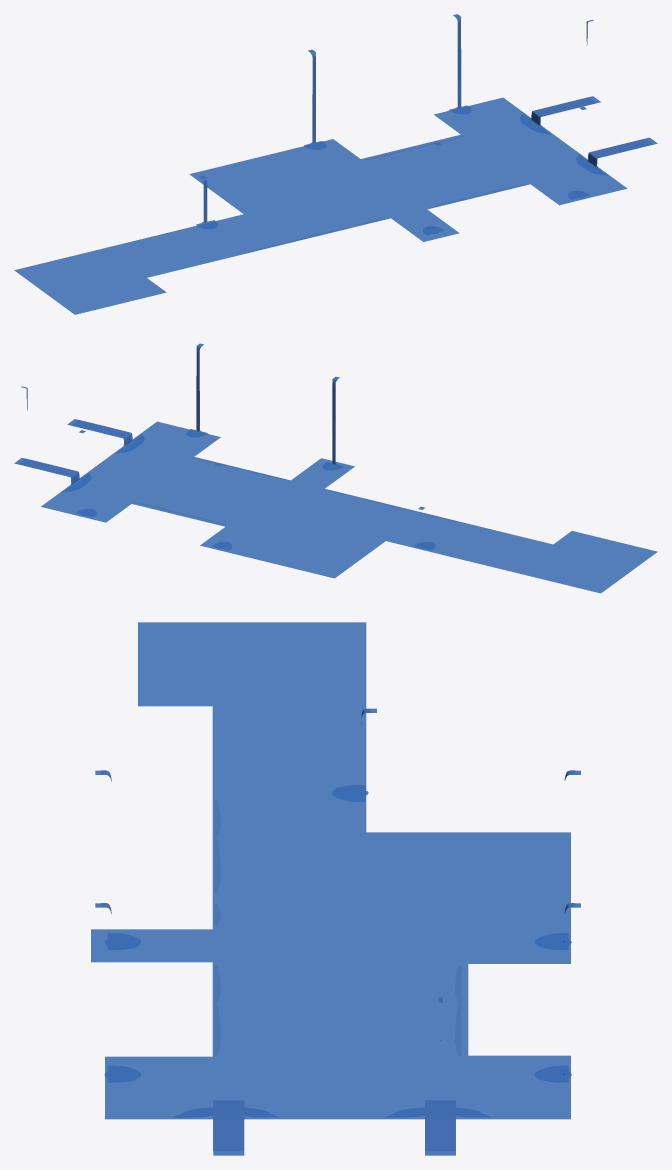
File: t3_road_line_e_water.glb
The picture shows the model from 3 angles, top to bottom: view 1: azimuth 30°, elevation 25°; view 2: azimuth 150°, elevation 25°; view 3: azimuth 270°, elevation 25°; orthographic projection. The views are drawn at different scales.
Parts seen in each view (by area): view 1: line_e_wtr_6, water_fall_1, water_river02_1, water_river01_1, water_river02_edge2; view 2: line_e_wtr_6, water_fall_1, water_river02_1, water_river01_1, water_river02_edge2; view 3: line_e_wtr_6, water_fall_1, water_river01_1, water_river02_edge2, water_river02_1.
Part boxes in pixels (x1=…): line_e_wtr_6: x1=14, y1=97, x2=627, y2=314; water_fall_1: x1=201, y1=15, x2=652, y2=222; water_river02_1: x1=199, y1=14, x2=657, y2=232; water_river01_1: x1=196, y1=105, x2=589, y2=235; water_river02_edge2: x1=248, y1=135, x2=529, y2=252; line_e_wtr_6: x1=41, y1=421, x2=657, y2=593; water_fall_1: x1=18, y1=344, x2=425, y2=508; water_river02_1: x1=14, y1=343, x2=424, y2=547; water_river01_1: x1=76, y1=429, x2=435, y2=550; water_river02_edge2: x1=133, y1=457, x2=456, y2=524; line_e_wtr_6: x1=91, y1=622, x2=570, y2=1119; water_fall_1: x1=100, y1=708, x2=575, y2=1151; water_river01_1: x1=104, y1=785, x2=571, y2=1082; water_river02_edge2: x1=214, y1=799, x2=461, y2=1056; water_river02_1: x1=95, y1=708, x2=580, y2=1155.
Size of the model in its own units: 79.13 by 11.56 by 29.74.
